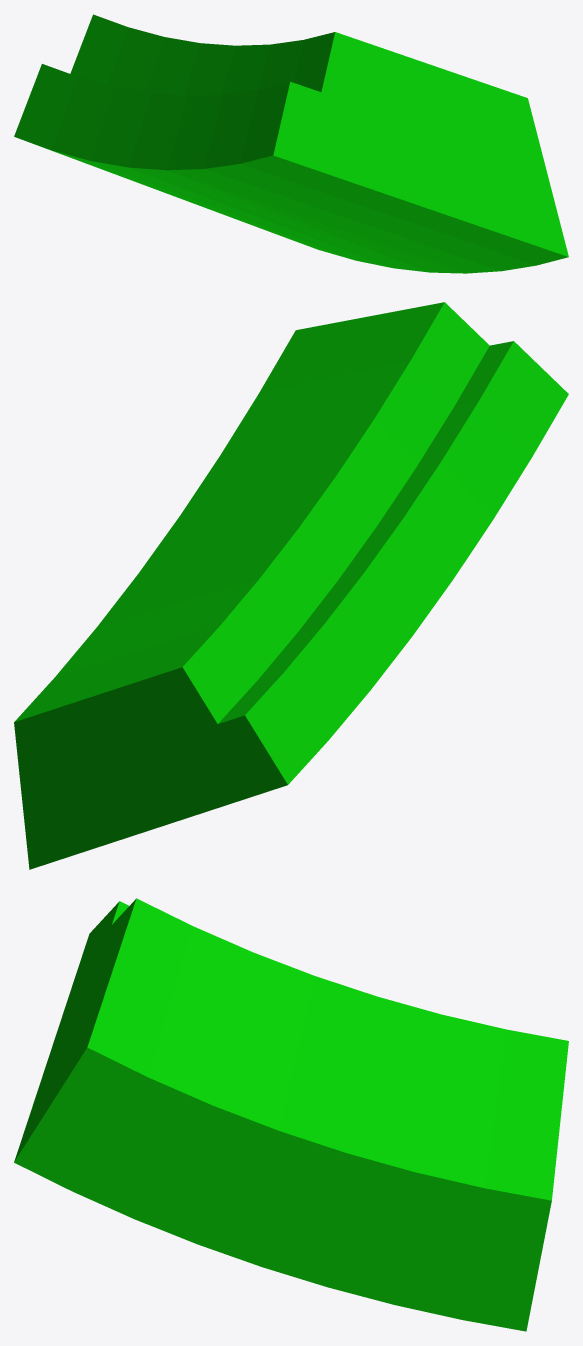
The model's file is noseRing_Block_Inf.dae.
3 views of the same model, one above another, from view 1: azimuth 30°, elevation 25°; view 2: azimuth 150°, elevation 25°; view 3: azimuth 270°, elevation 25° (orthographic). The views are drawn at different scales.
Visible parts, largest first — view 1: ShapeIndexedFaceSet_020; view 2: ShapeIndexedFaceSet_020; view 3: ShapeIndexedFaceSet_020.
Part boxes in pixels (x1,y1,x2,y2): ShapeIndexedFaceSet_020: (14,14,568,273); ShapeIndexedFaceSet_020: (14,302,568,869); ShapeIndexedFaceSet_020: (14,898,568,1331).
Bounding box in the file's own units: 0.8485 × 1.8 × 1.29.
